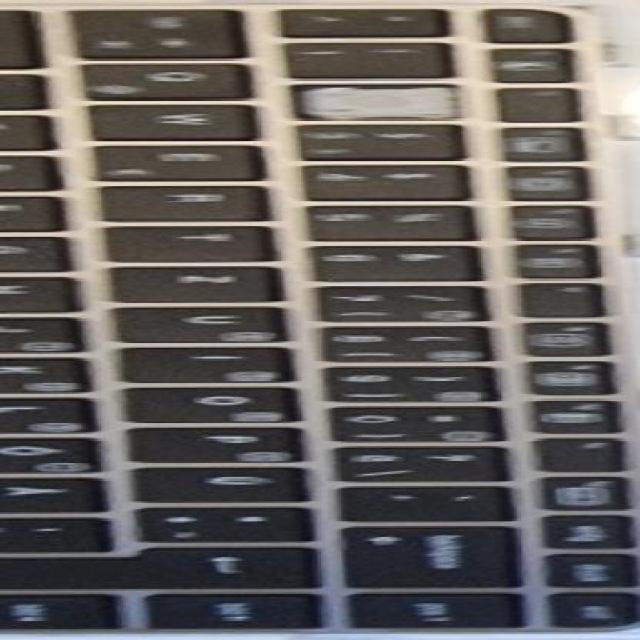Keyboard problems: (300, 86, 457, 117)
